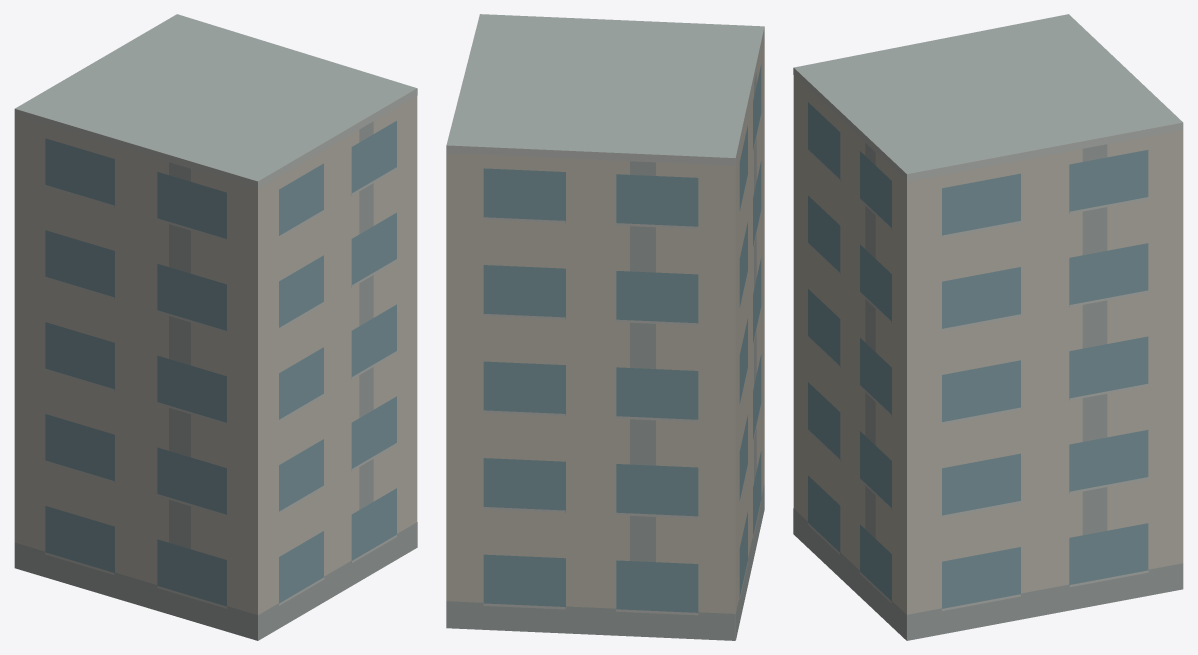
The model's file is survey-upis-32648035.glb.
3 renders of one model, left to right at view 1: azimuth 30°, elevation 25°; view 2: azimuth 150°, elevation 25°; view 3: azimuth 270°, elevation 25°, orthographic. The views are drawn at different scales.
Parts seen in each view (by area): view 1: survey-upis-32648035.tmp; view 2: survey-upis-32648035.tmp; view 3: survey-upis-32648035.tmp.
Part boxes in pixels (left/top/right/bottom): survey-upis-32648035.tmp: left=14, top=14, right=417, bottom=640; survey-upis-32648035.tmp: left=446, top=14, right=764, bottom=640; survey-upis-32648035.tmp: left=793, top=14, right=1183, bottom=640.
Bounding box in the file's own units: 11.23 × 15.25 × 11.55.
